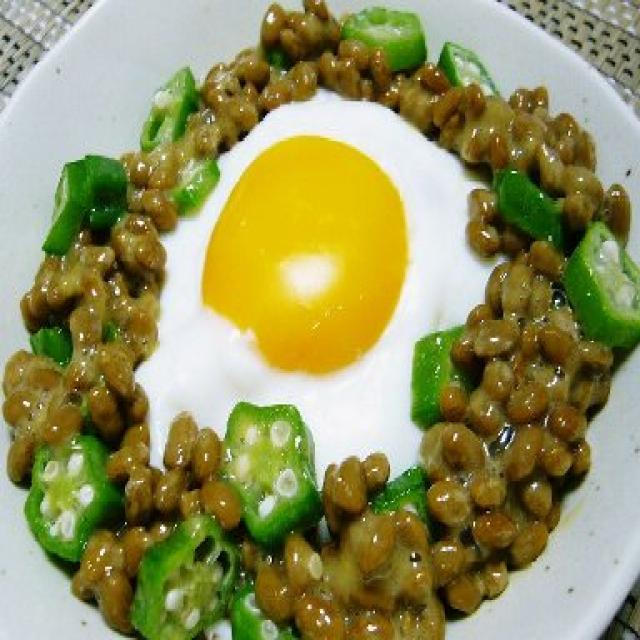鸡蛋料理: (132, 56, 508, 473)
